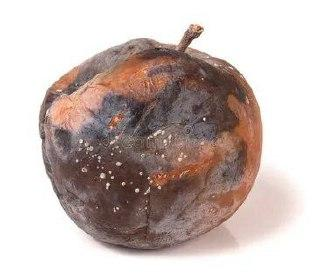Apple: (38, 38, 264, 249)
